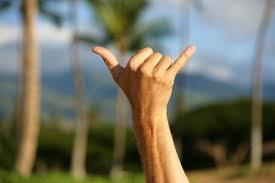subscribe-to-tem: (92, 45, 195, 105)
